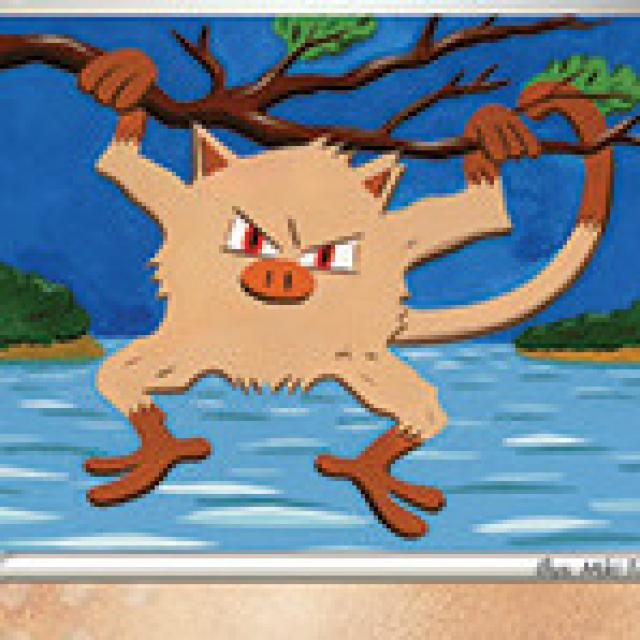Mankey: (94, 101, 509, 504)
